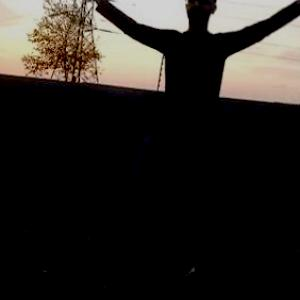takeoff: (89, 0, 299, 246)
